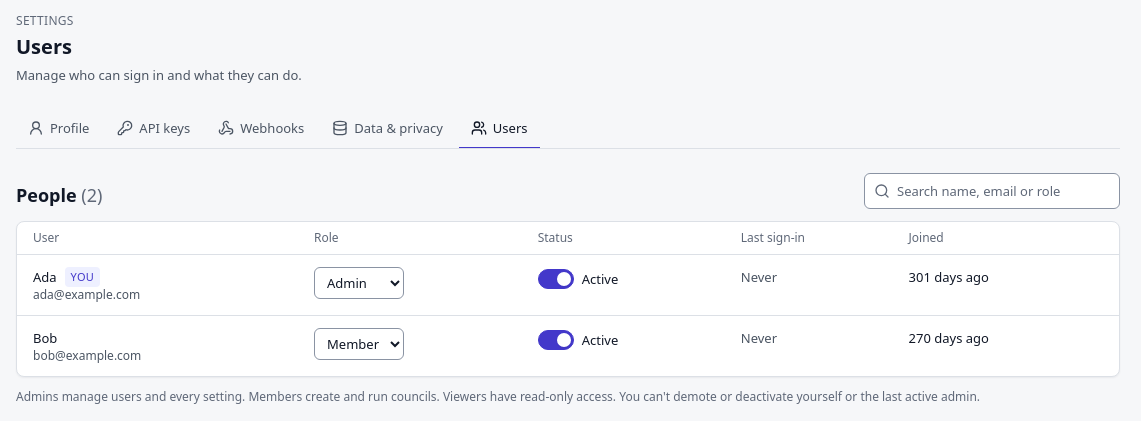
Test: Settings → Users › filters by search
Expected: the text "bob@example.com" is shown, [33,347,141,364]
Type "bob" into the search field named "Search users" at (992, 191), box [864,173,1120,209]
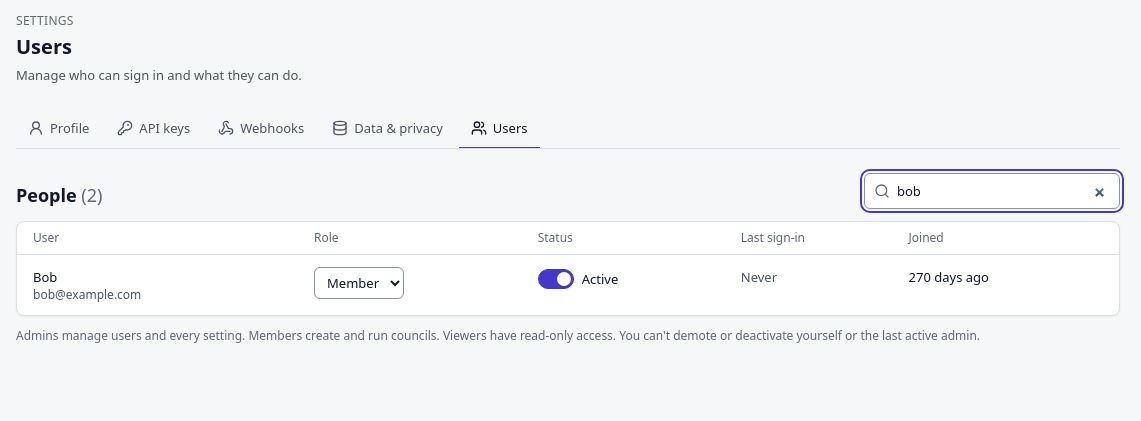
Expected: the text "bob@example.com" is shown, [33,286,141,303]
Expected: the text "ada@example.com" is gone
